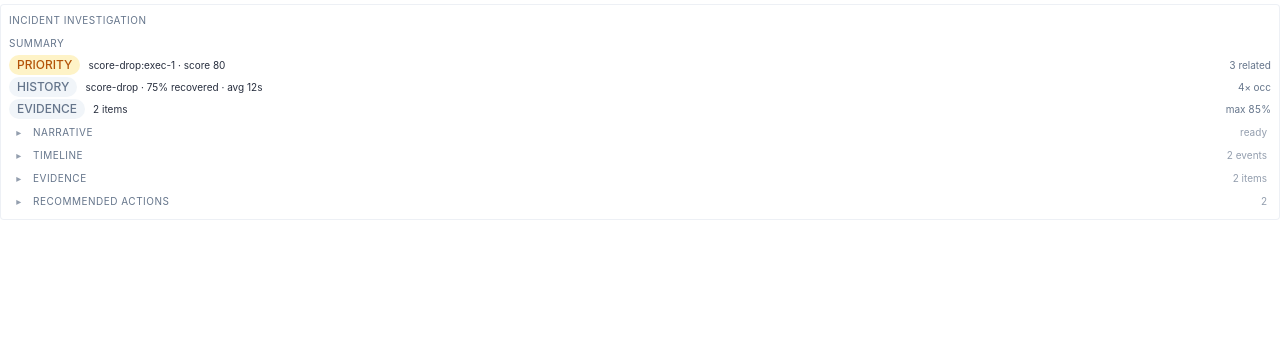
Test: InvestigationWorkspace › expands a secondary section on header click and renders its body
Expected: the text "score-drop:exec-1 · score 80" is shown, top-left (88, 59), bottom-right (225, 71)
What coordinates should you click on to do the following:
click the button "▸ Narrative ready"
I would click on:
 (63, 132)
Its box is top-left (9, 123), bottom-right (1271, 142).
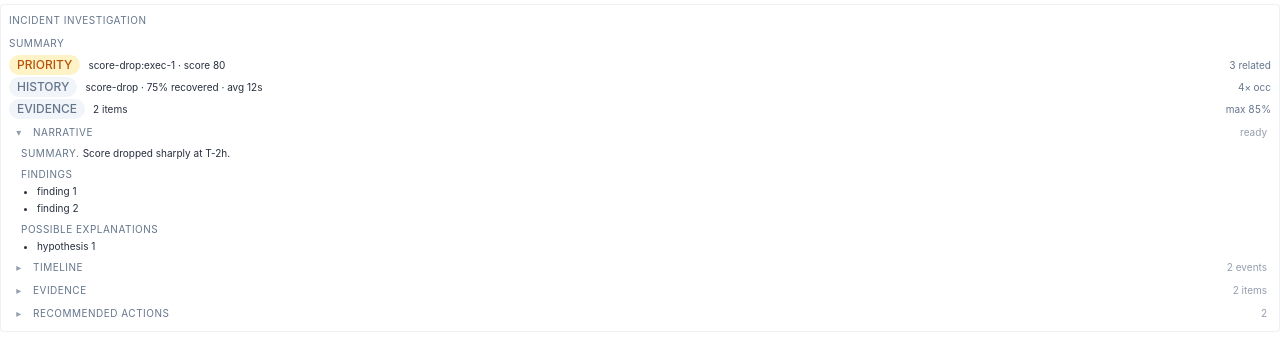
Result: the button "▾ Narrative ready" is expanded at top-left (9, 123), bottom-right (1271, 142)
Result: the text "Score dropped sharply at T-2h." is shown at top-left (83, 147), bottom-right (230, 159)
Result: the list item "finding 1" is shown at top-left (37, 185), bottom-right (76, 197)
